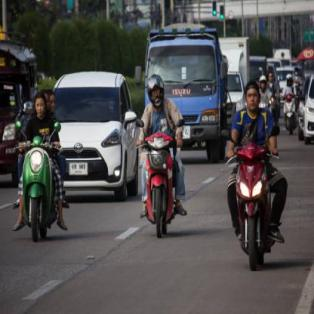Motocicleta: (217, 138, 278, 265), (16, 120, 61, 237), (137, 117, 179, 242)
